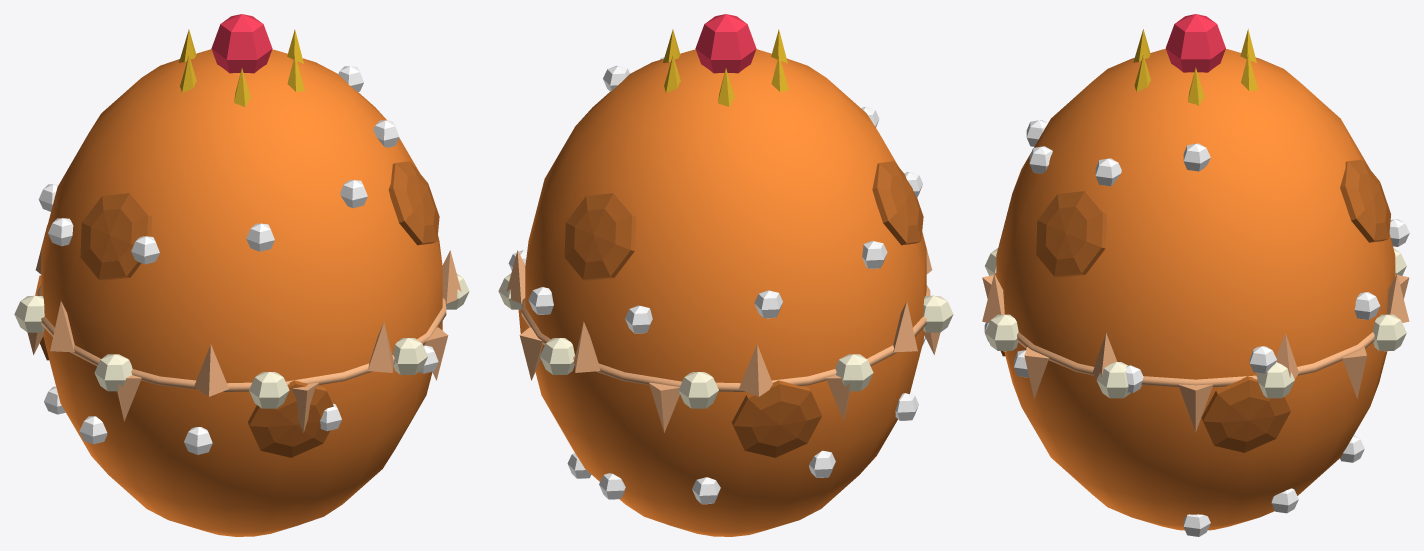
The model's file is Ovo_SuperEgg.fbx.
3 renders of one model, left to right at view 1: azimuth 30°, elevation 25°; view 2: azimuth 150°, elevation 25°; view 3: azimuth 270°, elevation 25°, orthographic.
Visible parts, largest first — view 1: Casca_SuperEgg; view 2: Casca_SuperEgg; view 3: Casca_SuperEgg.
Boxes of the visible parts, x1,y1,x2,y2 form: Casca_SuperEgg: (14,14,469,536); Casca_SuperEgg: (498,14,953,536); Casca_SuperEgg: (982,14,1409,536).
Size of the model in its own units: 1.74 by 2.2 by 1.7.
1 material, 1 textured.
